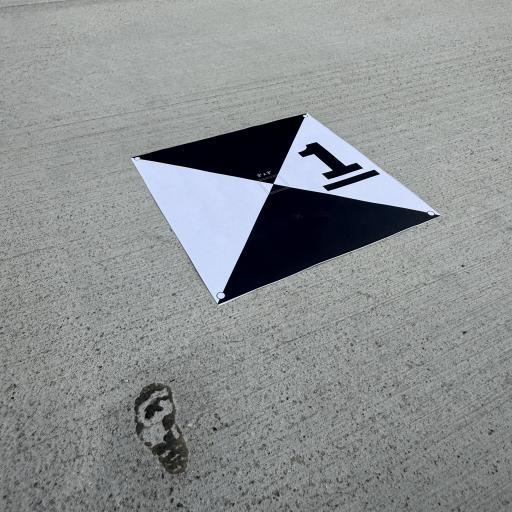target1: (129, 108, 449, 303)
